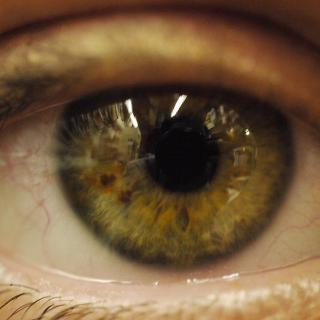iris: (60, 38, 293, 271)
